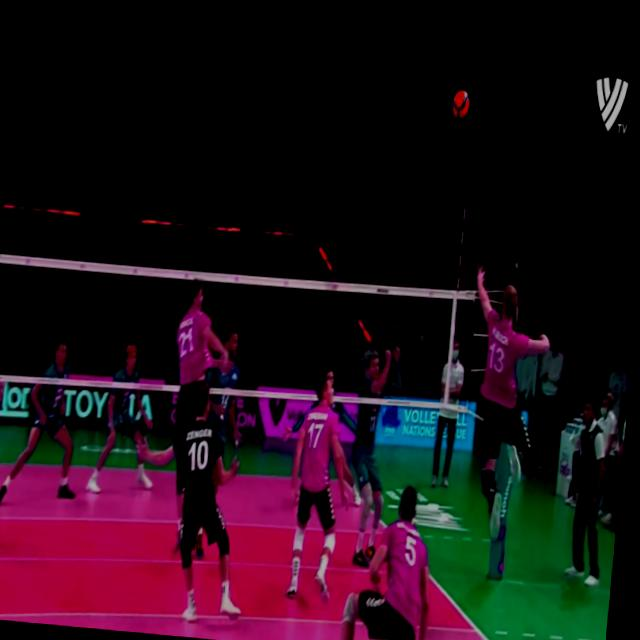player: (120, 385, 262, 623), (454, 258, 560, 546), (159, 276, 240, 559), (283, 363, 362, 602), (340, 480, 440, 640), (345, 339, 410, 571), (0, 334, 88, 504), (88, 340, 169, 496), (201, 325, 260, 510)
